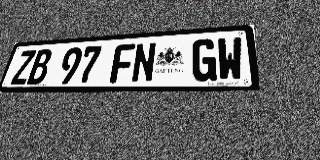7: (76, 46, 102, 84)
9: (57, 47, 84, 84)
B: (26, 49, 53, 85)
F: (109, 43, 135, 83)
G: (191, 38, 217, 82)
N: (131, 42, 157, 83)
W: (217, 37, 244, 81)
Z: (10, 50, 37, 85)
